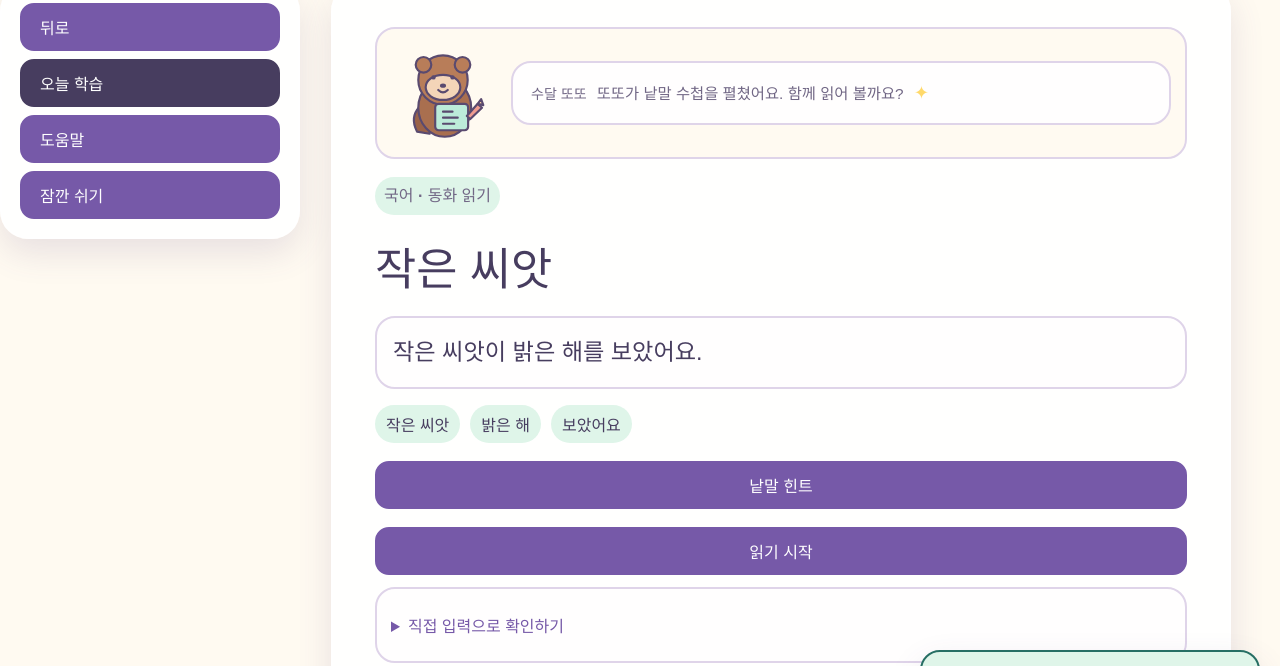
Test: LearningSession › does not show stale next after a delayed duplicate resubmit invalidates the prior completion timer
Click the heading "직접 입력으로 확인하기": (486, 626) [408, 618, 564, 635]
(page scrolled)
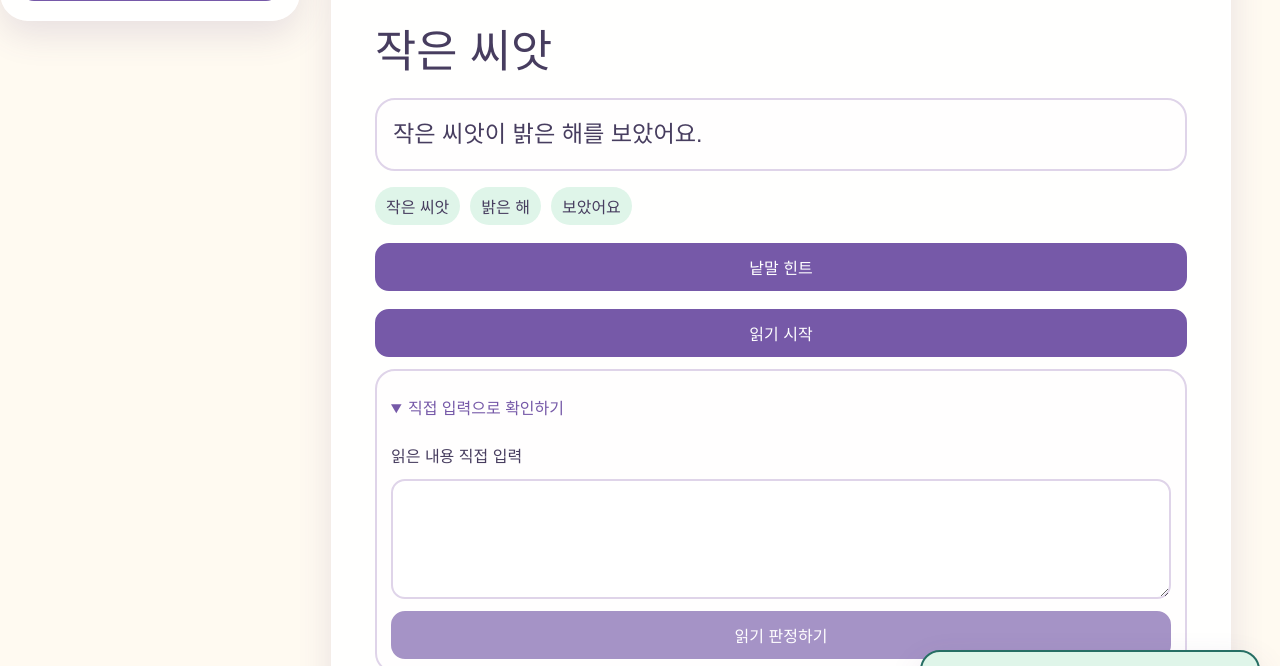
In the text box labelled "읽은 내용 직접 입력": (781, 539) [391, 479, 1171, 599], type "작은 씨앗이 밝은 해를 보았어요."
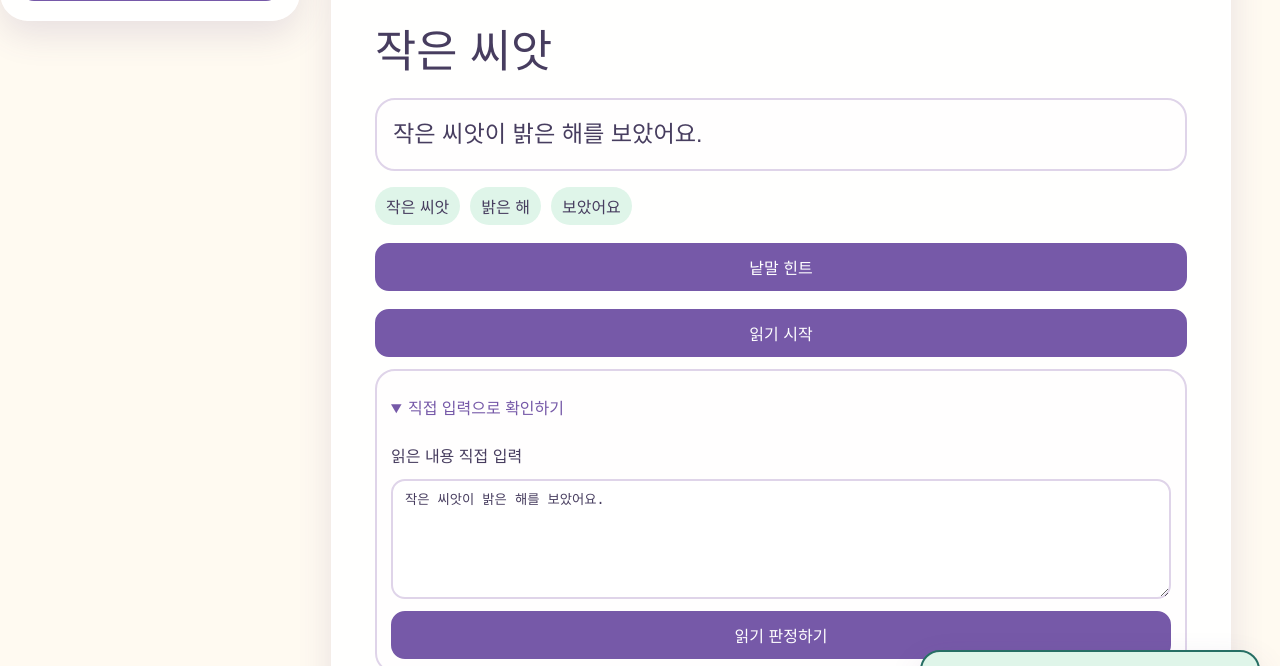
Click the button "읽기 판정하기": (781, 635) [391, 611, 1171, 659]
Wait 500 ms
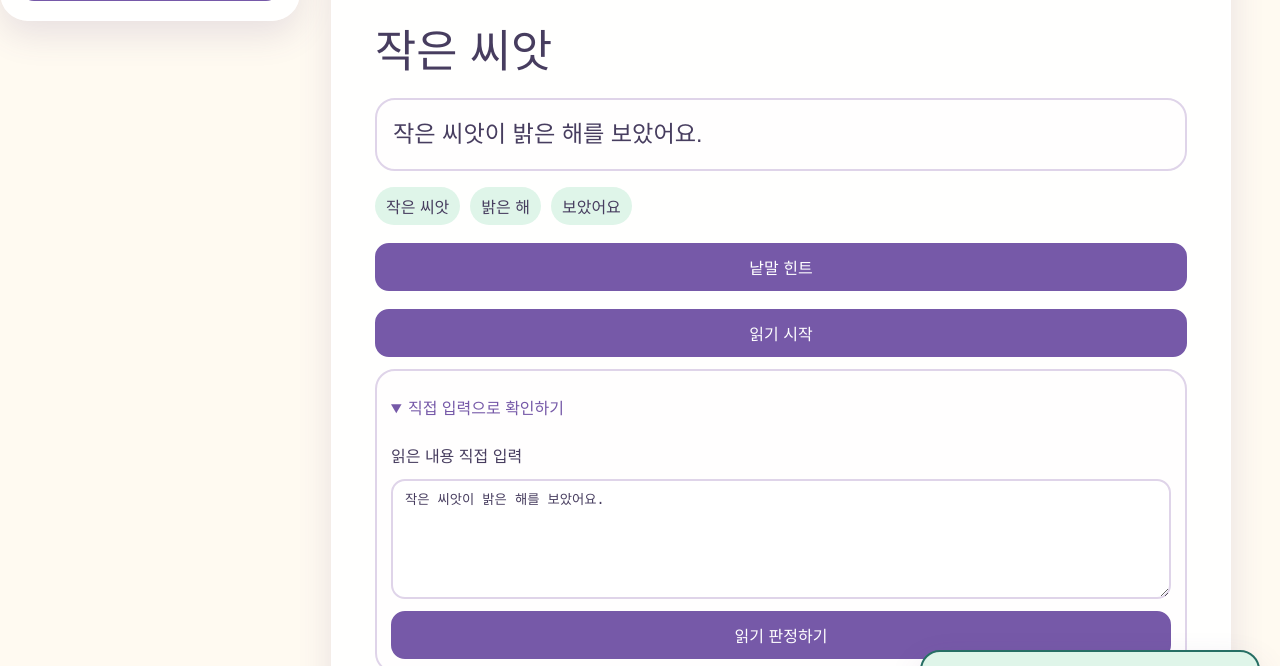
Click the button "읽기 판정하기": (781, 635) [391, 611, 1171, 659]
Wait 2500 ms
(page scrolled)
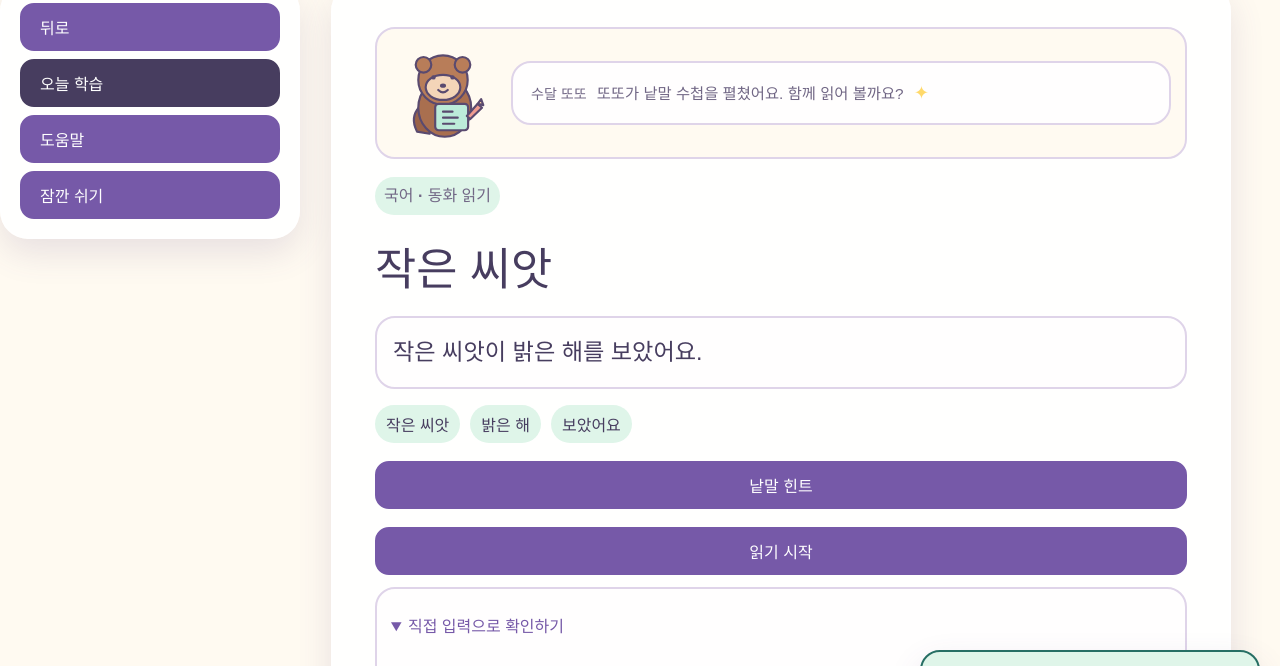
Expected: the message named "마법 친구 말풍선" does not show "다음 마법 걸음으로 가요. 버니가 도망간 양말을 잡아 둘게요.", [511, 61, 1171, 125]
Now the message named "마법 친구 말풍선" shows "또또가 낱말 수첩을 펼쳤어요. 함께 읽어 볼까요?", box [597, 85, 904, 102]
